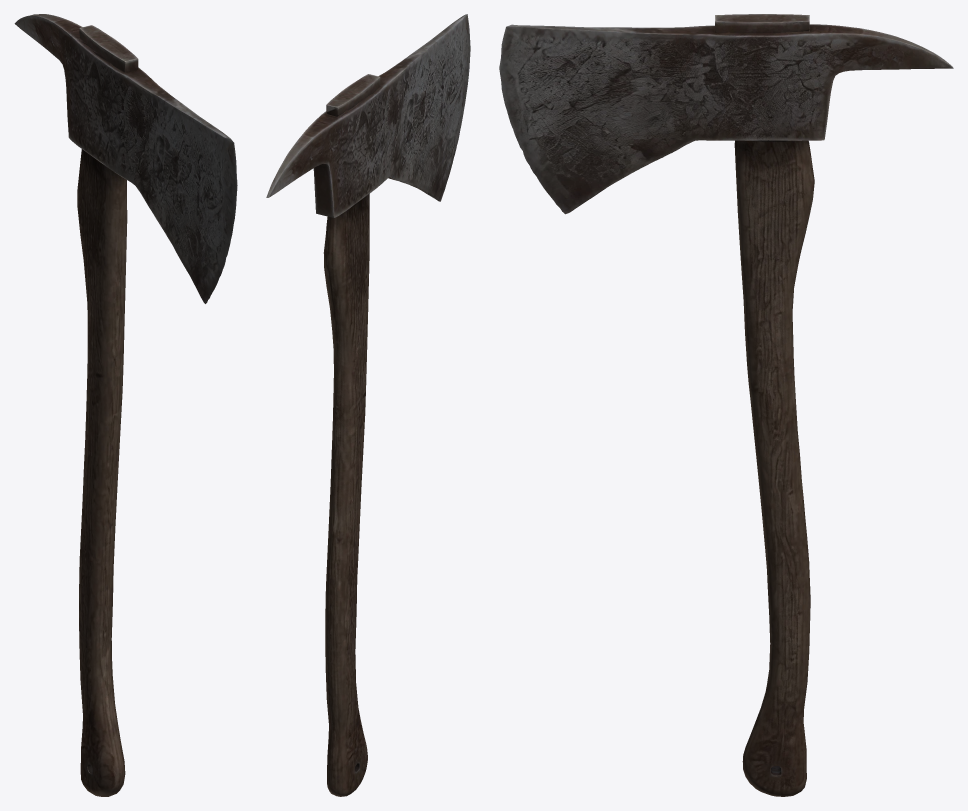
The model's file is axe.glb.
3 views of the same model, side by side, from view 1: azimuth 30°, elevation 25°; view 2: azimuth 150°, elevation 25°; view 3: azimuth 270°, elevation 25° (orthographic). The views are drawn at different scales.
Parts seen in each view (by area): view 1: model; view 2: model; view 3: model.
Part boxes in pixels (x1=…): model: x1=14, y1=14, x2=237, y2=796; model: x1=266, y1=14, x2=470, y2=796; model: x1=499, y1=14, x2=953, y2=796.
Size of the model in its own units: 0.0325 by 0.9 by 0.4774.
Materials: 1 (1 with a texture image).
